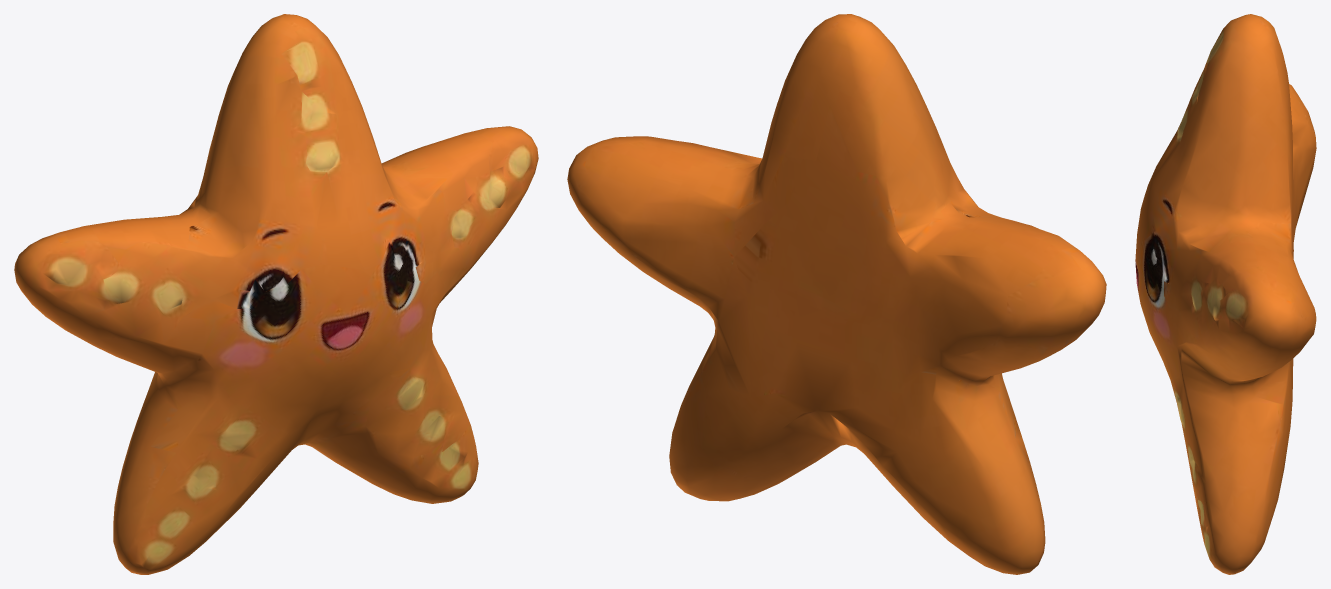
File: starfish.glb
The picture shows the model from 3 angles, left to right: view 1: azimuth 30°, elevation 25°; view 2: azimuth 150°, elevation 25°; view 3: azimuth 270°, elevation 25°; orthographic projection. The views are drawn at different scales.
Visible parts, largest first — view 1: model; view 2: model; view 3: model.
Part boxes in pixels (x1=…): model: x1=14, y1=14, x2=538, y2=574; model: x1=567, y1=14, x2=1106, y2=574; model: x1=1135, y1=14, x2=1316, y2=574.
Bounding box in the file's own units: 1.9 × 1.8 × 0.6091.
1 material, 1 textured.
